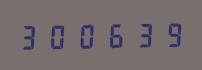nine: (158, 19, 185, 48)
six: (102, 19, 129, 49)
three: (130, 19, 157, 49), (17, 21, 44, 50)
zero: (45, 20, 72, 50), (74, 20, 101, 49)
